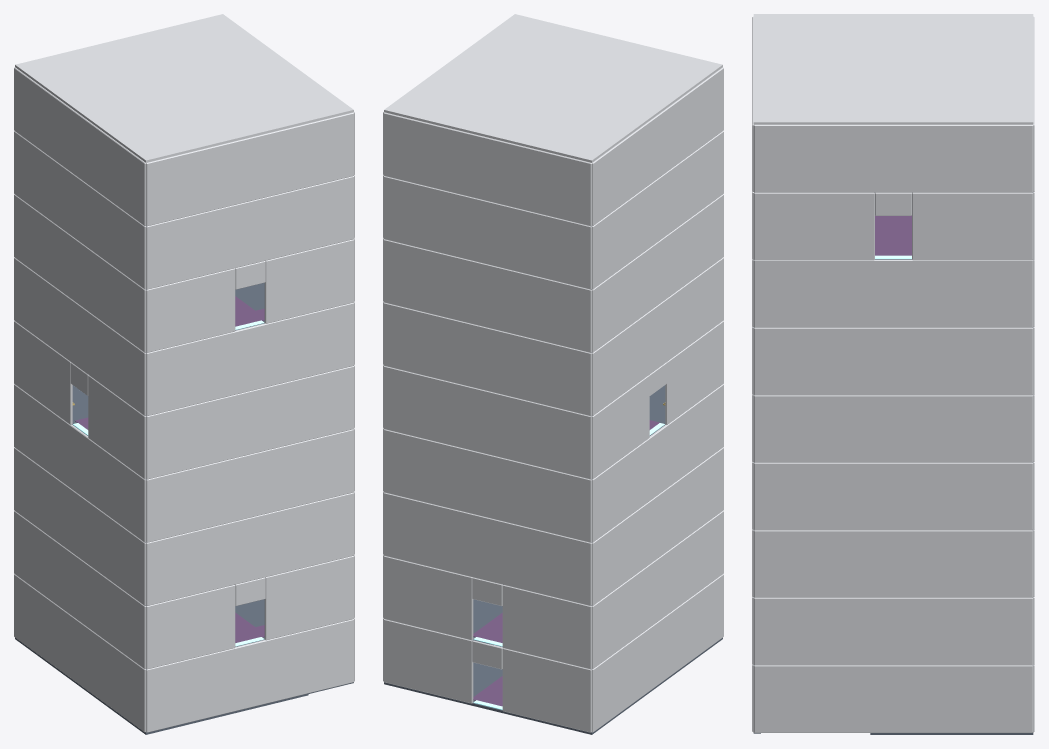
Rendered from stairwell-mid.glb.
3 views of the same model, side by side, from view 1: azimuth 30°, elevation 25°; view 2: azimuth 150°, elevation 25°; view 3: azimuth 270°, elevation 25° (orthographic). The views are drawn at different scales.
Parts seen in each view (by area): view 1: CM_BULKHEAD, CM_DECK, CM_CARPET; view 2: CM_BULKHEAD, CM_DECK, CM_CARPET; view 3: CM_BULKHEAD, CM_CARPET.
Part boxes in pixels (box(x1,y1,x2,y2)): CM_BULKHEAD: box(14, 14, 354, 732); CM_DECK: box(15, 226, 353, 734); CM_CARPET: box(75, 296, 264, 642); CM_BULKHEAD: box(383, 14, 723, 732); CM_DECK: box(384, 226, 722, 734); CM_CARPET: box(473, 420, 659, 706); CM_BULKHEAD: box(752, 14, 1034, 732); CM_CARPET: box(875, 215, 911, 255).
Size of the model in its own units: 11.14 by 29.04 by 12.14.
